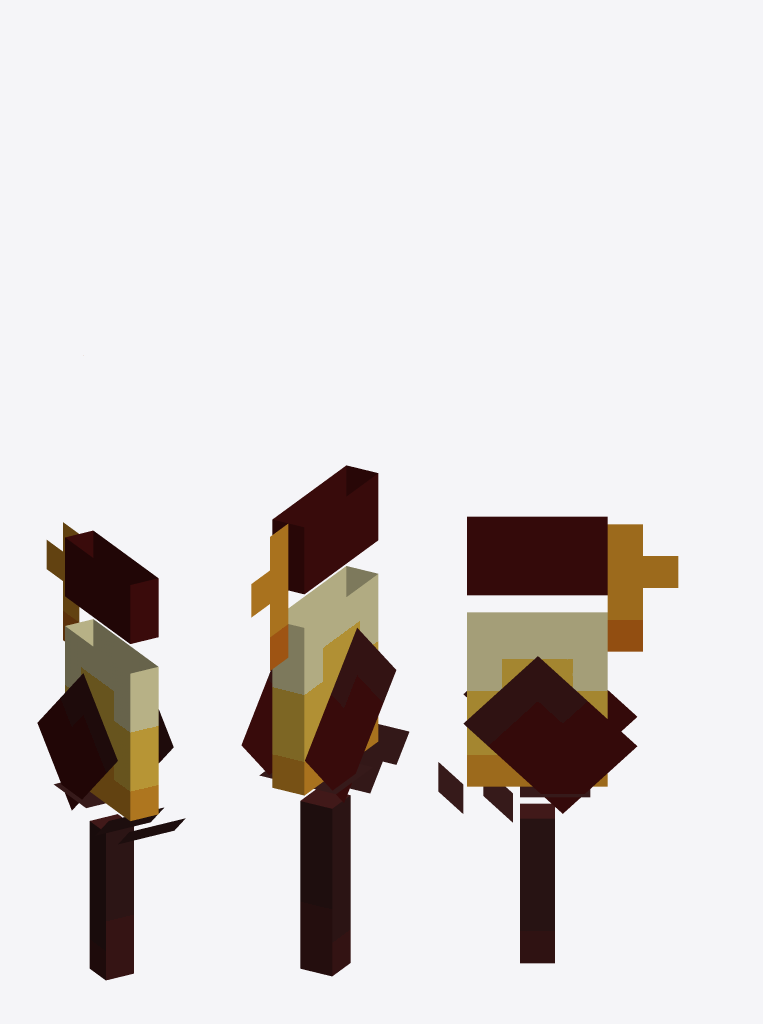
File: altar_dragonrend.obj
3 renders of one model, left to right at view 1: azimuth 30°, elevation 25°; view 2: azimuth 150°, elevation 25°; view 3: azimuth 270°, elevation 25°, orthographic. The views are drawn at different scales.
Size of the model in its own units: 0.15 by 1.94 by 0.5508.
